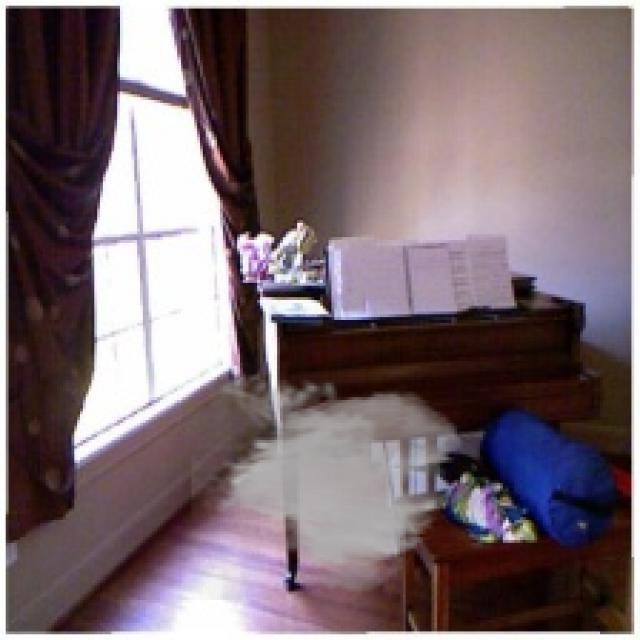Smoke: (191, 366, 466, 600)
